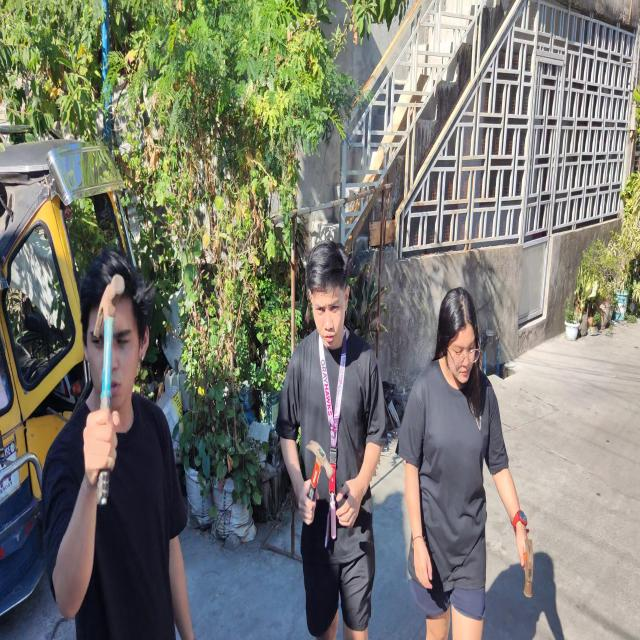hammer: (94, 275, 125, 504), (306, 440, 334, 502), (523, 539, 534, 597)
